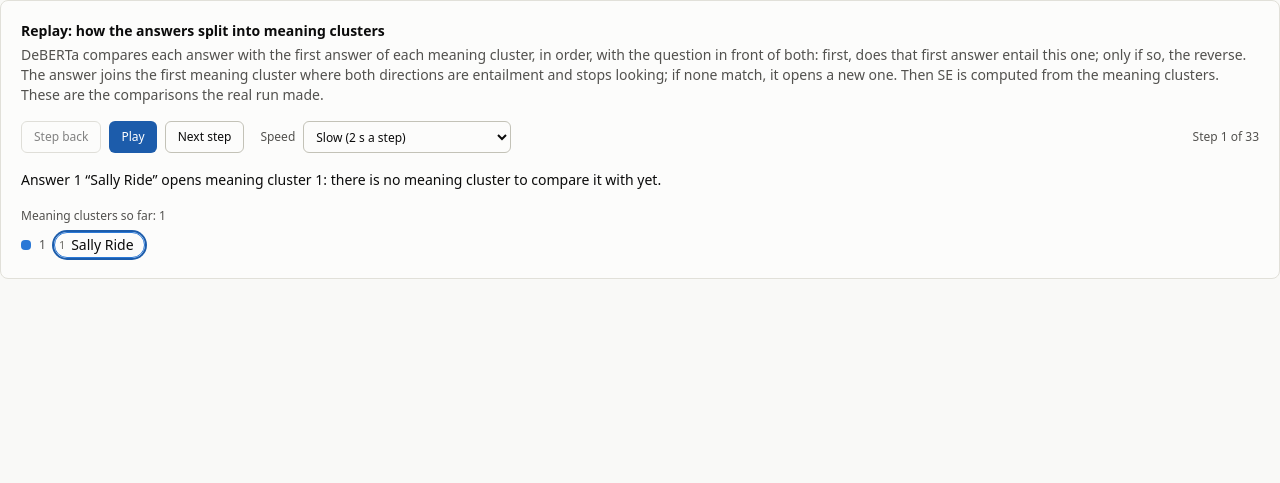
ClusteringReplay, stepping by hand › shows one comparison: the answer, the representative, both verdicts with the question in front
The image size is (1280, 483).
What coordinates should you click on to do the following:
click the button "Next step"
I would click on:
 (205, 137)
Its box is [165,121,244,153].
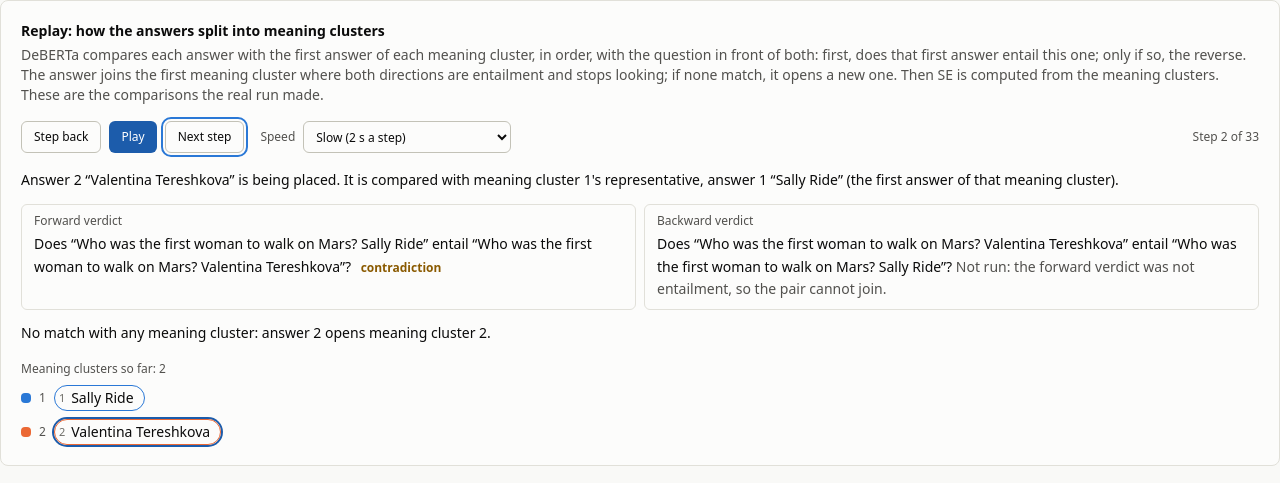
Expected: the element "Forward verdict" shows "Who was the first woman to walk on Mars? Valentina Tereshkova", [34,234,592,276]
Expected: the element "Forward verdict" shows "contradiction", [361,258,441,276]
Expected: the element "Backward verdict" shows "not run", [657,256,1194,298]
